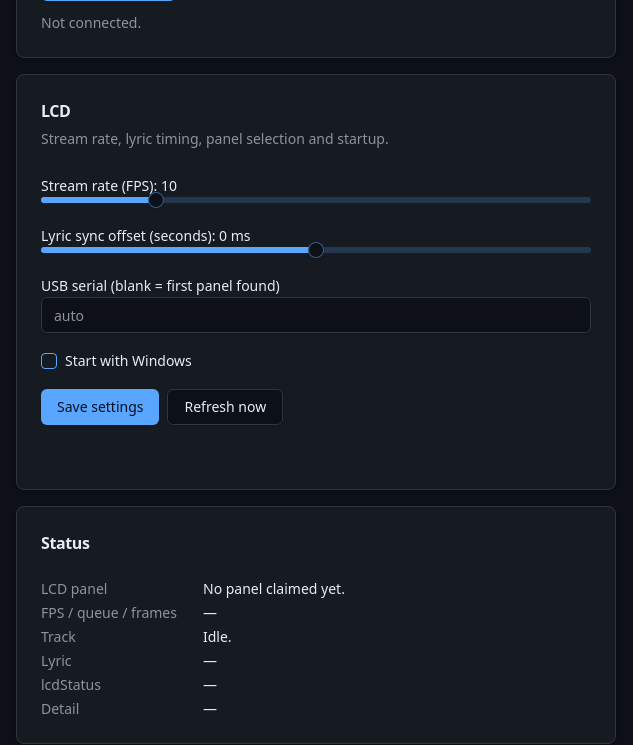
Test case: startup toggle › keeps the new value and confirms when setStartup resolves
The image size is (633, 745).
(page scrolled)
Click the checkbox named "Start with Windows" at (49, 361), box left=41, top=353, right=57, bottom=369
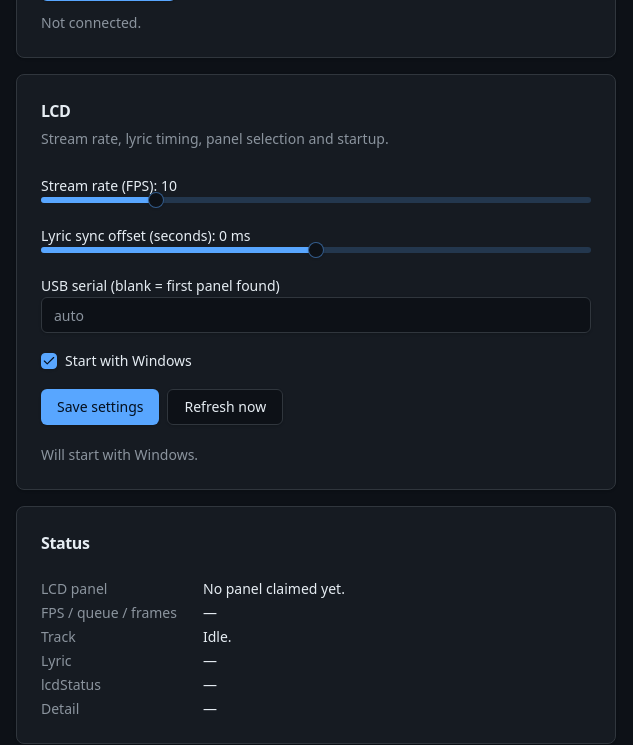
Expected: the checkbox named "Start with Windows" is checked, left=41, top=353, right=57, bottom=369
Expected: the message with id "settings-state" reads "Will start with Windows.", left=41, top=445, right=198, bottom=464
